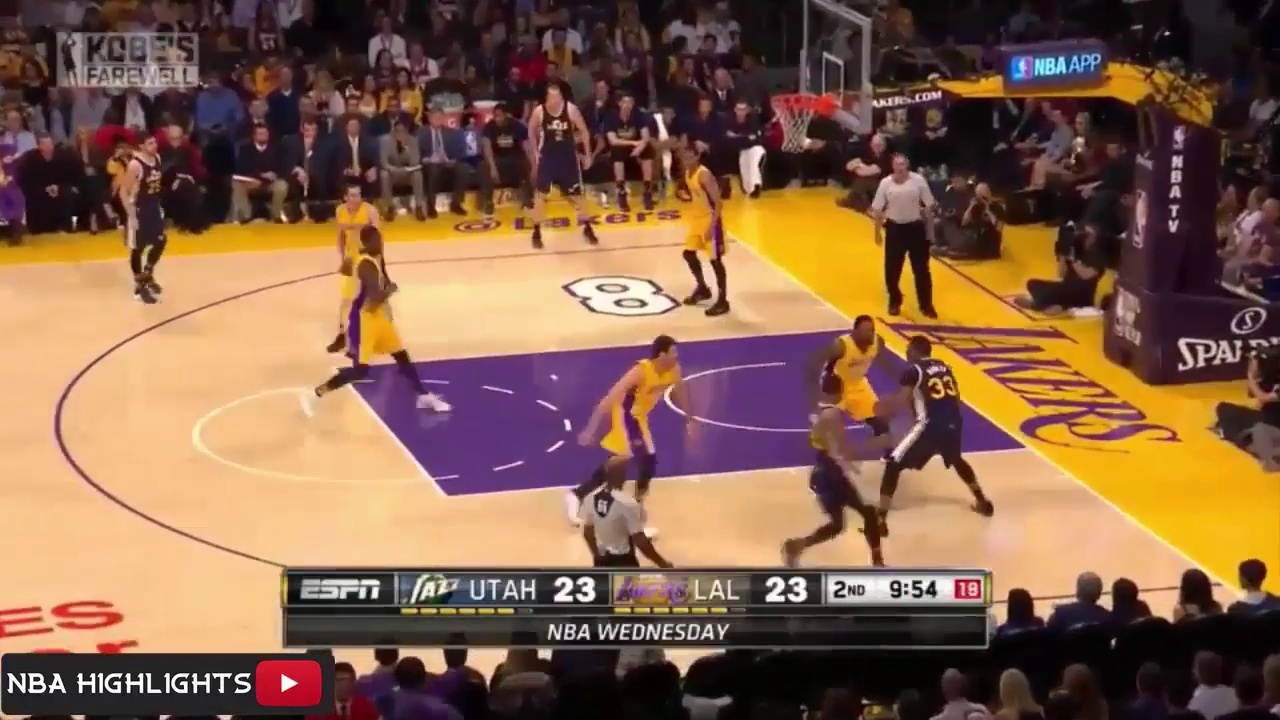jazz: (877, 335, 994, 523), (786, 375, 894, 568), (520, 79, 607, 254), (122, 129, 179, 304)
lakers: (319, 229, 452, 420), (573, 340, 702, 518), (666, 143, 739, 320), (817, 313, 897, 453), (335, 189, 396, 344)
